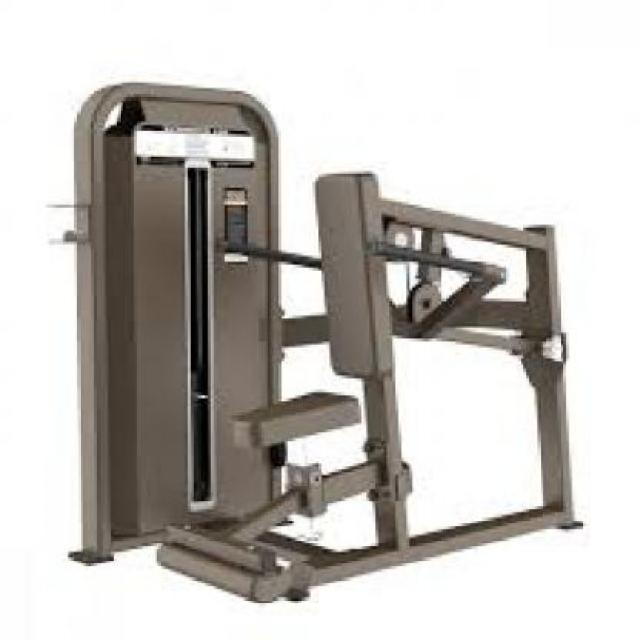seated dip machine: (48, 74, 586, 608)
